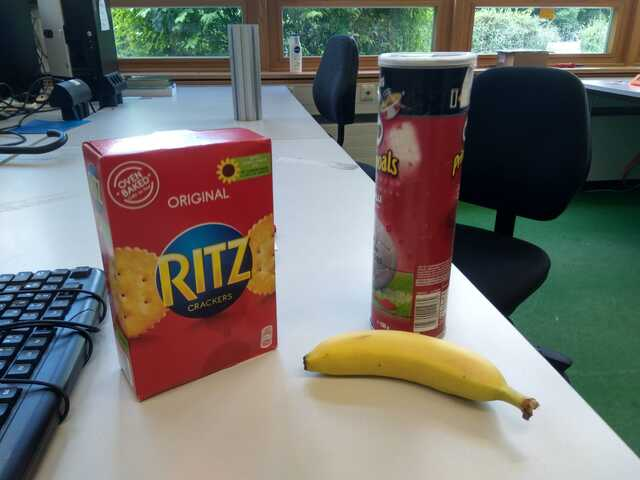001_chips_can: (368, 47, 478, 338)
003_cracker_box: (79, 126, 286, 405)
011_banana: (298, 326, 543, 425)
